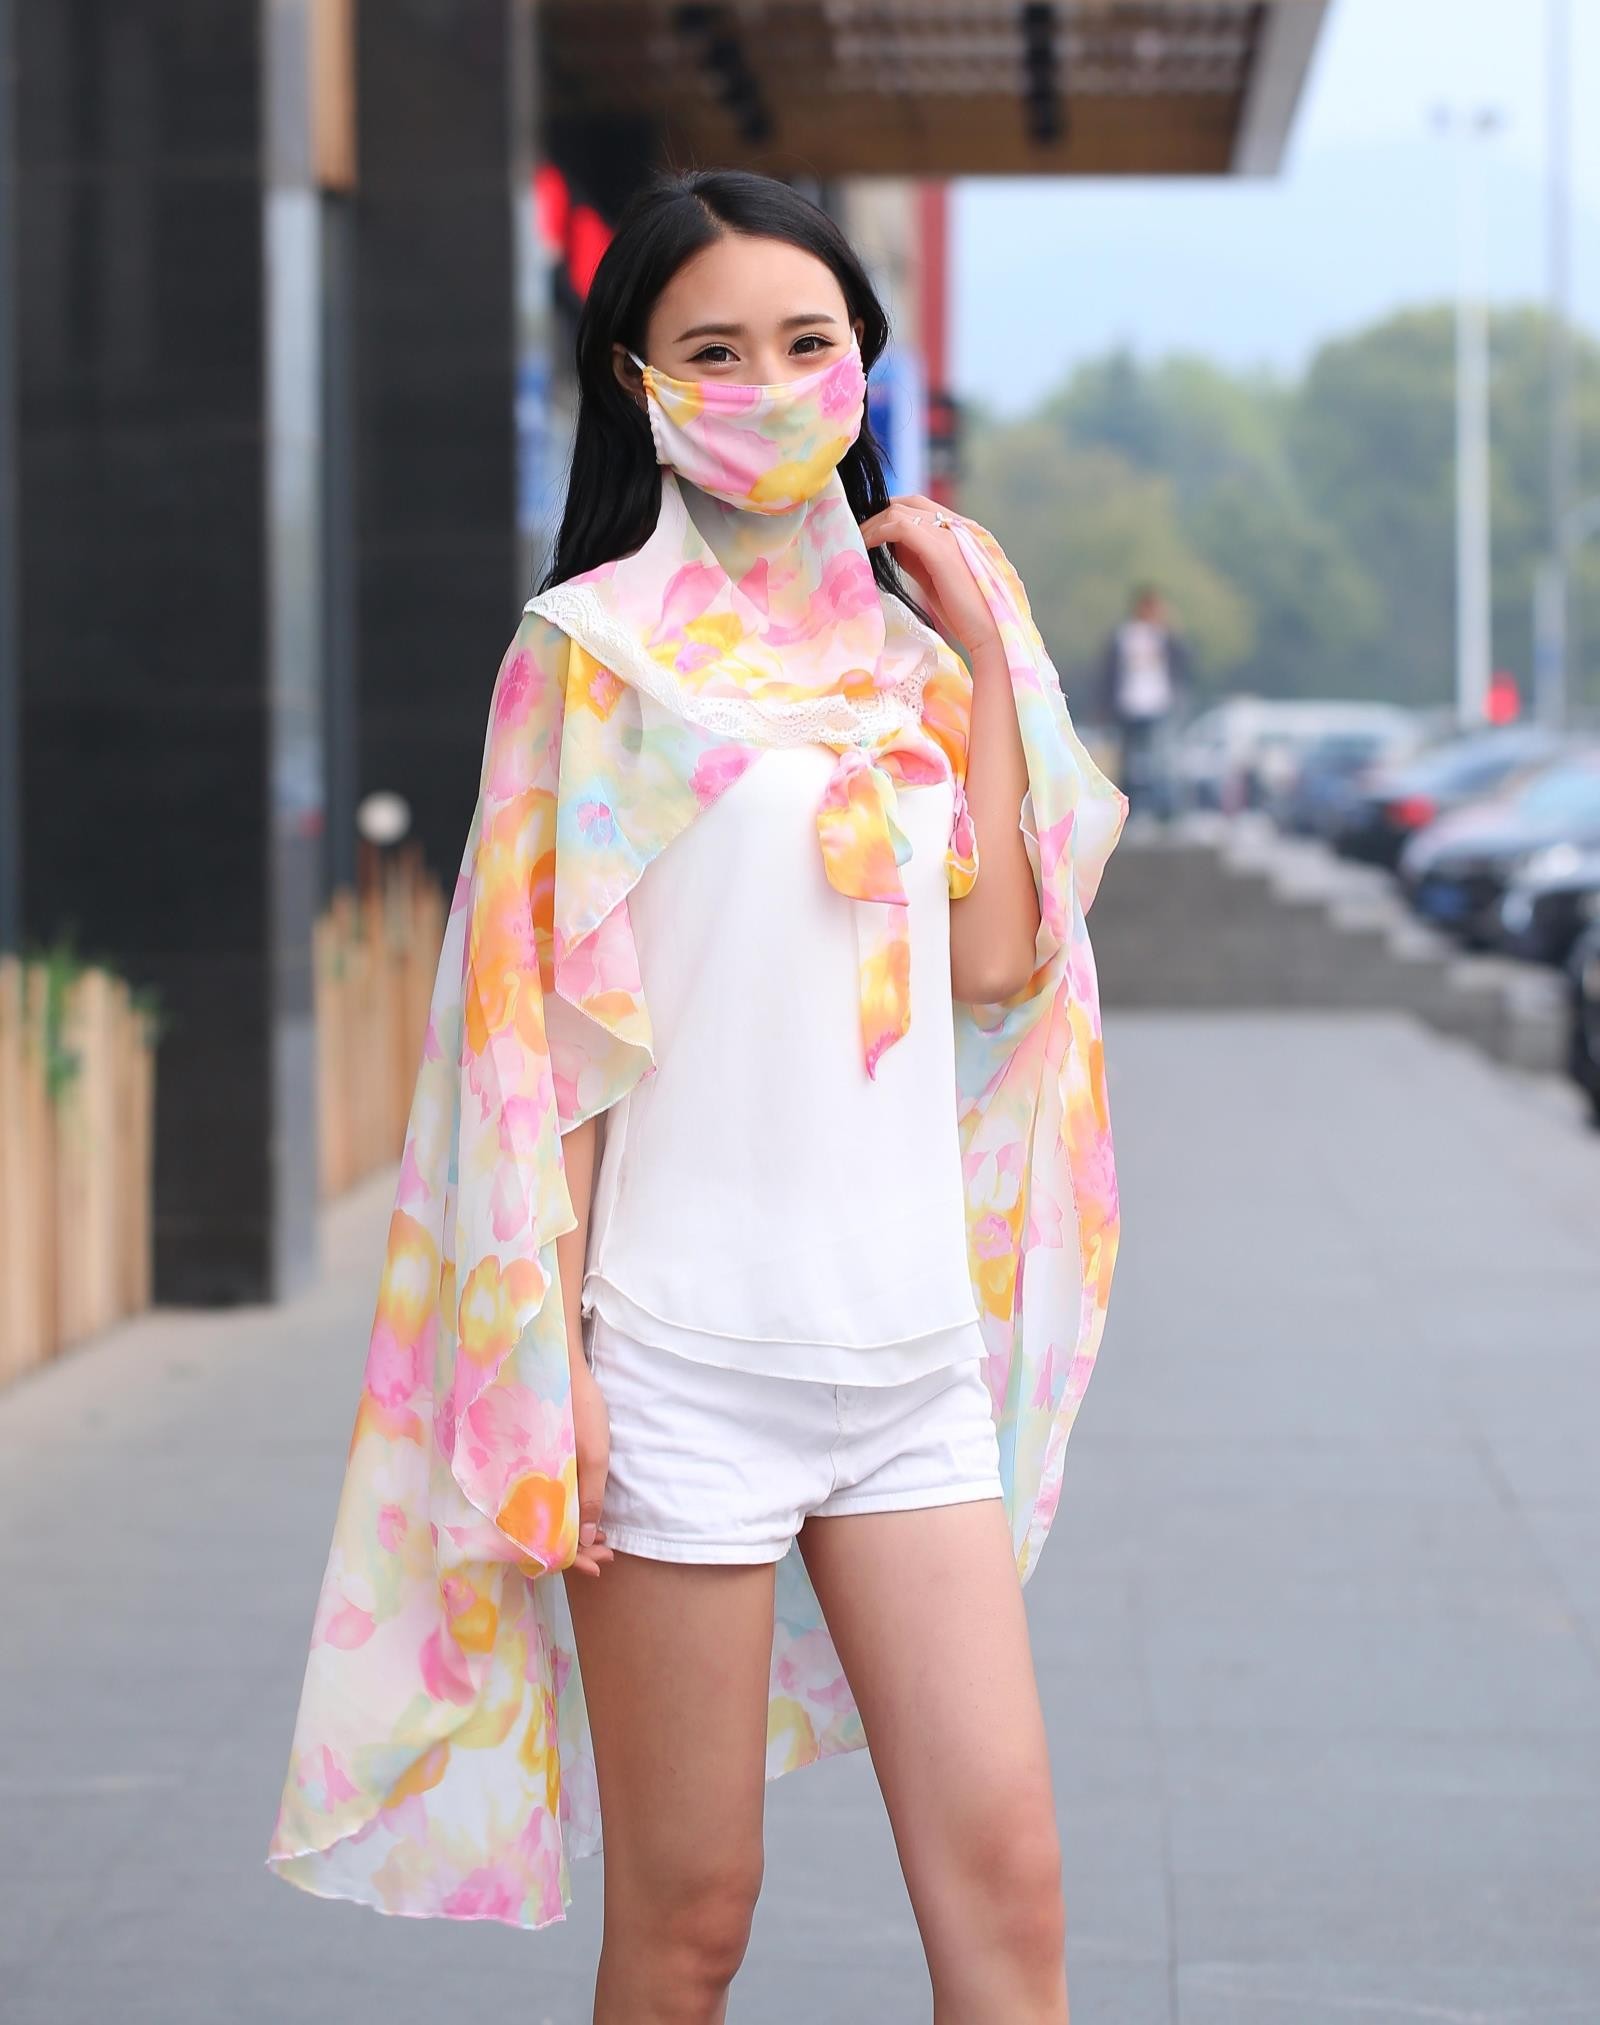face_mask: (646, 237, 854, 505)
